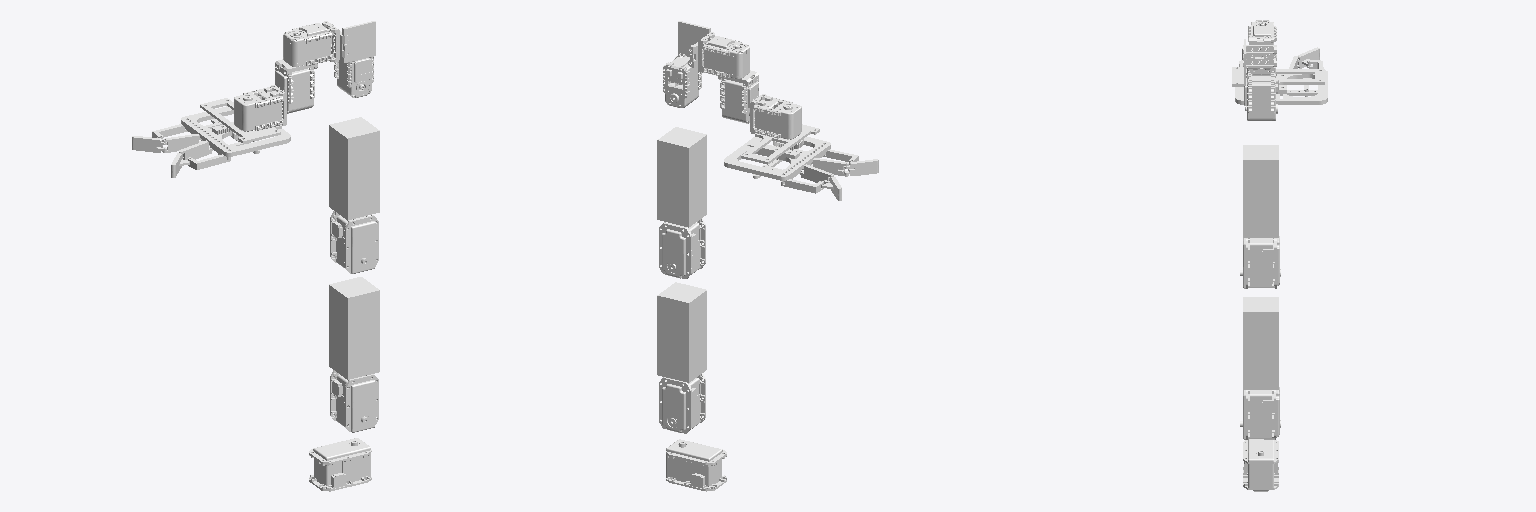
URDF robot description (mobile_manipulator):
<?xml version="1.0" ?>
<!-- =================================================================================== -->
<!-- |    This document was autogenerated by xacro from mobile_manipulator.xacro       | -->
<!-- |    EDITING THIS FILE BY HAND IS NOT RECOMMENDED                                 | -->
<!-- =================================================================================== -->
<robot name="mobile_manipulator" xmlns:xacro="http://www.ros.org/wiki/xacro">
  <material name="white">
    <color rgba="1 1 1 1"/>
  </material>
  <!-- MACROS -->
  <!-- Macros of the J plate -->
  <!-- Macros of the square plate -->
  <!-- Macros of the gripper -->
  <!-- Macros of the AXBracket -->
  <!-- LINKS -->
  <link name="bot">
    <visual>
      <origin rpy="0 0 -1.57" xyz="0 0 0"/>
      <geometry>
        <mesh filename="package://mobile_manipulator/meshes/bot.stl" scale="0.001 0.001 0.001"/>
      </geometry>
      <material name="white"/>
    </visual>
    <collision>
      <origin rpy="0 0 -1.57" xyz="0 0 0"/>
      <geometry>
        <mesh filename="package://mobile_manipulator/meshes/bot.stl" scale="0.001 0.001 0.001"/>
      </geometry>
    </collision>
  </link>
  <link name="shoulder_yaw_motor">
    <inertial>
      <origin rpy="0 0 0 " xyz="0 0 0"/>
      <mass value="0.140"/>
      <inertia ixx="0.000050799110" ixy="0.0" ixz="0.0" iyy="0.00002857215" iyz="0.00000051457" izz="0.000043394"/>
    </inertial>
    <visual>
      <origin rpy="0 0 0 " xyz="0 0.188 0.2349"/>
      <geometry>
        <mesh filename="package://mobile_manipulator/meshes/dynamixel_x64series.stl" scale="0.001 0.001 0.001"/>
      </geometry>
      <material name="white"/>
    </visual>
    <collision>
      <origin rpy="0 0 0" xyz="0 0.188 0.2349"/>
      <geometry>
        <box size="0.041 0.0402 0.0611"/>
      </geometry>
    </collision>
  </link>
  <link name="shoulder_bracket">
    <inertial>
      <origin rpy="0 3.14 0 " xyz="0 0 0.025"/>
      <mass value="0.00712"/>
      <inertia ixx="0.00000174511" ixy="0.0" ixz="0.0" iyy="0.00000379922" iyz="0.0" izz="0.00000357521"/>
    </inertial>
    <visual>
      <origin rpy="0 3.14 0 " xyz="0 0 0"/>
      <geometry>
        <mesh filename="package://mobile_manipulator/meshes/FR05-H101K.stl" scale="0.001 0.001 0.001"/>
      </geometry>
      <material name="white"/>
    </visual>
    <collision>
      <origin rpy="0 3.14 0 " xyz="0 0 0"/>
      <geometry>
        <mesh filename="package://mobile_manipulator/meshes/FR05-H101K.stl" scale="0.001 0.001 0.001"/>
      </geometry>
    </collision>
  </link>
  <link name="shoulder_pitch_motor">
    <inertial>
      <origin rpy="0 0 1.57" xyz="0 0 0"/>
      <mass value="0.140"/>
      <inertia ixx="0.000050799110" ixy="0.0" ixz="0.0" iyy="0.00002857215" iyz="0.00000051457" izz="0.000043394"/>
    </inertial>
    <visual>
      <origin rpy="0.0 0.0 1.57" xyz="0 0 0"/>
      <geometry>
        <mesh filename="package://mobile_manipulator/meshes/dynamixel_x64series.stl" scale="0.001 0.001 0.001"/>
      </geometry>
      <material name="white"/>
    </visual>
    <collision>
      <origin rpy="0 0 1.57" xyz="0 0 0"/>
      <geometry>
        <box size="0.041 0.0602 0.1480"/>
      </geometry>
    </collision>
  </link>
  <link name="biscep">
    <inertial>
      <origin rpy="0 1.57 0" xyz="0.099 0 0"/>
      <mass value="0.00048"/>
      <inertia ixx="0.000050799110" ixy="0.0" ixz="0.0" iyy="0.00002857215" iyz="0.00000051457" izz="0.000043394"/>
    </inertial>
    <visual>
      <origin rpy="0 1.57 0" xyz="0.099 0 0"/>
      <geometry>
        <box size="0.04 0.04 0.096"/>
      </geometry>
      <material name="white"/>
    </visual>
    <collision>
      <origin rpy="0 1.57 0" xyz="0.099 0 0"/>
      <geometry>
        <box size="0.04 0.04 0.096"/>
      </geometry>
    </collision>
  </link>
  <link name="elbow_bracket">
    <inertial>
      <origin rpy="0 -1.57 0" xyz="0.148 0 0"/>
      <mass value="0.00712"/>
      <inertia ixx="0.00000174511" ixy="0.0" ixz="0.0" iyy="0.00000379922" iyz="0.0" izz="0.00000357521"/>
    </inertial>
    <visual>
      <origin rpy="0 -1.57 0" xyz="0.148 0 0"/>
      <geometry>
        <mesh filename="package://mobile_manipulator/meshes/FR05-H101K.stl" scale="0.001 0.001 0.001"/>
      </geometry>
      <material name="white"/>
    </visual>
    <collision>
      <origin rpy="0 -1.57 0" xyz="0.148 0 0"/>
      <geometry>
        <mesh filename="package://mobile_manipulator/meshes/FR05-H101K.stl" scale="0.001 0.001 0.001"/>
      </geometry>
    </collision>
  </link>
  <link name="elbow_motor">
    <inertial>
      <origin rpy="0 0 1.57" xyz="0 0 0"/>
      <mass value="0.140"/>
      <inertia ixx="0.000050799110" ixy="0.0" ixz="0.0" iyy="0.00002857215" iyz="0.00000051457" izz="0.000043394"/>
    </inertial>
    <visual>
      <origin rpy="0 0 1.57" xyz="0 0 0"/>
      <geometry>
        <mesh filename="package://mobile_manipulator/meshes/dynamixel_x64series.stl" scale="0.001 0.001 0.001"/>
      </geometry>
      <material name="white"/>
    </visual>
    <collision>
      <origin rpy="0 0 1.57" xyz="0  0 0"/>
      <geometry>
        <box size="0.041 0.0402 0.0611"/>
      </geometry>
    </collision>
  </link>
  <link name="forearm">
    <inertial>
      <origin rpy="0 1.57 0" xyz="0.1 0 0"/>
      <mass value="0.00048"/>
      <inertia ixx="0.000050799110" ixy="0.0" ixz="0.0" iyy="0.00002857215" iyz="0.00000051457" izz="0.000043394"/>
    </inertial>
    <visual>
      <origin rpy="0 1.57 0" xyz="0.1 0 0"/>
      <geometry>
        <box size="0.04 0.04 0.096"/>
      </geometry>
      <material name="white"/>
    </visual>
    <collision>
      <origin rpy="0 1.57 0" xyz="0.1 0 0"/>
      <geometry>
        <box size="0.04 0.04 0.096"/>
      </geometry>
    </collision>
  </link>
  <link name="wrist_bracket">
    <inertial>
      <origin rpy="0 0 -1.57" xyz="0.202 0 0"/>
      <mass value="0.00712"/>
      <inertia ixx="0.00000174511" ixy="0.0" ixz="0.0" iyy="0.00000379922" iyz="0.0" izz="0.00000357521"/>
    </inertial>
    <visual>
      <origin rpy="0 0 -1.57" xyz="0.202 0 0"/>
      <geometry>
        <mesh filename="package://mobile_manipulator/meshes/F4.stl" scale="0.001 0.001 0.001"/>
      </geometry>
      <material name="white"/>
    </visual>
    <collision>
      <origin rpy="0 0 -1.57" xyz="0.202 0 0"/>
      <geometry>
        <mesh filename="package://mobile_manipulator/meshes/F4.stl" scale="0.001 0.001 0.001"/>
      </geometry>
    </collision>
  </link>
  <link name="wrist_pitch_motor">
    <inertial>
      <origin rpy="0 0 1.57" xyz="0 0 0"/>
      <mass value="0.05573"/>
      <inertia ixx="0.00001611154" ixy="0.00000001397" ixz="0.0" iyy="0.00000888743" iyz="0.00000015948" izz="0.00001354172"/>
    </inertial>
    <visual>
      <origin rpy="0 0 1.57" xyz="0 0 0"/>
      <geometry>
        <mesh filename="package://mobile_manipulator/meshes/AX-12_18A - dynamixel_AXseries-1.stl" scale="0.001 0.001 0.001"/>
      </geometry>
      <material name="white"/>
    </visual>
    <collision>
      <origin rpy="0 0 1.57" xyz="0 0 0"/>
      <geometry>
        <box size="0.032 0.04 0.05"/>
      </geometry>
    </collision>
  </link>
  <link name="wrist_yaw_motor">
    <inertial>
      <origin rpy="0 1.57 0" xyz="0.055 0.0 -0.056"/>
      <mass value="0.05573"/>
      <inertia ixx="0.00001611154" ixy="0.00000001397" ixz="0.0" iyy="0.00000888743" iyz="0.00000015948" izz="0.00001354172"/>
    </inertial>
    <visual>
      <origin rpy="0 1.57 0" xyz="0.055 0.0 -0.056"/>
      <geometry>
        <mesh filename="package://mobile_manipulator/meshes/AX-12_18A - dynamixel_AXseries-1.stl" scale="0.001 0.001 0.001"/>
      </geometry>
      <material name="white"/>
    </visual>
    <collision>
      <origin rpy="0 1.57 0" xyz="0.055 0.0 -0.056"/>
      <geometry>
        <box size="0.032 0.04 0.05"/>
      </geometry>
    </collision>
  </link>
  <link name="wrist_roll_motor">
    <inertial>
      <origin rpy="-1.57 3.14 0" xyz="0 0.002565 0.04237"/>
      <mass value="0.05573"/>
      <inertia ixx="0.00001611154" ixy="0.00000001397" ixz="0.0" iyy="0.00000888743" iyz="0.00000015948" izz="0.00001354172"/>
    </inertial>
    <visual>
      <origin rpy="-1.57 3.14 0" xyz="0 0.002565 0.04237"/>
      <geometry>
        <mesh filename="package://mobile_manipulator/meshes/AX-12_18A - dynamixel_AXseries-1.stl" scale="0.001 0.001 0.001"/>
      </geometry>
      <material name="white"/>
    </visual>
    <collision>
      <origin rpy="-1.57 3.14 0" xyz="0 0.002565 0.04237"/>
      <geometry>
        <box size="0.032 0.04 0.05"/>
      </geometry>
    </collision>
  </link>
  <!--link name="roll_j_plate">
    <xacro:roll_j_plate_Inertial trans="0.015 0.0147 0.058" rpy="3.14 1.57 -1.57"/>
    <xacro:roll_j_plate_Visual trans="0.015 0.0147 0.058" rpy="3.14 1.57 -1.57"/>
    <xacro:roll_j_plate_Collision trans="0.015 0.0147 0.058" rpy="3.14 1.57 -1.57"/>
  </link-->
  <link name="square_plate_1">
    <inertial>
      <origin rpy="-1.57 0 0" xyz="0.035 -0.0156 0.02"/>
      <mass value="0.140"/>
      <inertia ixx="0.000050799110" ixy="0.0" ixz="0.0" iyy="0.00002857215" iyz="0.00000051457" izz="0.000043394"/>
    </inertial>
    <visual>
      <origin rpy="-1.57 0 0" xyz="0.035 -0.0156 0.02"/>
      <geometry>
        <mesh filename="package://mobile_manipulator/meshes/square_plate.stl" scale="0.001 0.001 0.001"/>
      </geometry>
      <material name="white"/>
    </visual>
    <collision>
      <origin rpy="-1.57 0 0" xyz="0.035 -0.0156 0.0"/>
      <geometry>
        <mesh filename="package://mobile_manipulator/meshes/square_plate.stl" scale="0.001 0.001 0.001"/>
      </geometry>
    </collision>
  </link>
  <!--link name="square_plate_2">
    <xacro:square_plate_Inertial trans="-0.02 -0.0156 0.0737" rpy="3.14 1.57 -1.57"/>
    <xacro:square_plate_Visual trans="-0.02 -0.0156 0.0737" rpy="3.14 1.57 -1.57"/>
    <xacro:square_plate_Collision trans="-0.02 -0.0156 0.0737" rpy="3.14 1.57 -1.57"/>
  </link-->
  <link name="AXB2B_SQ_Y">
    <inertial>
      <origin rpy="0 0 3.14" xyz="0.0737 0.048 -0.02"/>
      <mass value="0.140"/>
      <inertia ixx="0.000050799110" ixy="0.0" ixz="0.0" iyy="0.00002857215" iyz="0.00000051457" izz="0.000043394"/>
    </inertial>
    <visual>
      <origin rpy="0 0 3.14" xyz="0.0737 0.048 -0.02"/>
      <geometry>
        <mesh filename="package://mobile_manipulator/meshes/axback.stl" scale="0.001 0.001 0.001"/>
      </geometry>
      <material name="white"/>
    </visual>
    <collision>
      <origin rpy="0 0 3.14" xyz="0.0737 0.048 -0.02"/>
      <geometry>
        <mesh filename="package://mobile_manipulator/meshes/axback.stl" scale="0.001 0.001 0.001"/>
      </geometry>
    </collision>
  </link>
  <link name="AXBrak_Y_R">
    <inertial>
      <origin rpy="1.57 0 0" xyz="-0.0125 0.02 0"/>
      <mass value="0.140"/>
      <inertia ixx="0.000050799110" ixy="0.0" ixz="0.0" iyy="0.00002857215" iyz="0.00000051457" izz="0.000043394"/>
    </inertial>
    <visual>
      <origin rpy="1.57 0 0" xyz="-0.0125 0.02 0"/>
      <geometry>
        <mesh filename="package://mobile_manipulator/meshes/axbracket.stl" scale="0.001 0.001 0.001"/>
      </geometry>
      <material name="white"/>
    </visual>
    <collision>
      <origin rpy="1.57 0 0" xyz="-0.0125 0.02 0"/>
      <geometry>
        <mesh filename="package://mobile_manipulator/meshes/axbracket.stl" scale="0.001 0.001 0.001"/>
      </geometry>
    </collision>
    <!--0.067/-->
  </link>
  <link name="gripper">
    <inertial>
      <origin rpy="1.57 0 0" xyz="0.006 0.035 0.085"/>
      <mass value="0.140"/>
      <inertia ixx="0.000050799110" ixy="0.0" ixz="0.0" iyy="0.00002857215" iyz="0.00000051457" izz="0.000043394"/>
    </inertial>
    <visual>
      <origin rpy="1.57 0 0" xyz="0.006 0.035 0.085"/>
      <geometry>
        <mesh filename="package://mobile_manipulator/meshes/gripper.stl" scale="0.001 0.001 0.001"/>
      </geometry>
      <material name="white"/>
    </visual>
    <collision>
      <origin rpy="1.57 0 0" xyz="0.006 0.035 0.085"/>
      <geometry>
        <mesh filename="package://mobile_manipulator/meshes/gripper.stl" scale="0.001 0.001 0.001"/>
      </geometry>
    </collision>
  </link>
  <joint name="bot_joint" type="fixed">
    <origin rpy="0 0 -1.57" xyz="0 0 0"/>
    <parent link="bot"/>
    <child link="shoulder_yaw_motor"/>
  </joint>
  <joint name="shoulder_yaw" type="revolute">
    <origin rpy="0 0 3.14" xyz="0 0.188 0.2577"/>
    <parent link="shoulder_yaw_motor"/>
    <child link="shoulder_bracket"/>
    <axis xyz="0 0 1"/>
    <limit effort="30" lower="-3.14" upper="3.14" velocity="1.0"/>
  </joint>
  <joint name="shoulder_pitch" type="revolute">
    <origin rpy="0 -1.57 0.0" xyz="0 0 0.035"/>
    <parent link="shoulder_bracket"/>
    <child link="shoulder_pitch_motor"/>
    <axis xyz="0 0 1"/>
    <limit effort="30" lower="-1.6592" upper="1.727" velocity="1.0"/>
  </joint>
  <joint name="s1_l2" type="fixed">
    <origin rpy="0 0 0" xyz="0 0 0"/>
    <parent link="shoulder_pitch_motor"/>
    <child link="biscep"/>
  </joint>
  <joint name="l2_l2B" type="fixed">
    <origin rpy="0 0 0" xyz="0 0 0"/>
    <parent link="biscep"/>
    <child link="elbow_bracket"/>
  </joint>
  <joint name="elbow" type="revolute">
    <origin rpy="0 0 0" xyz="0.186 0 0"/>
    <parent link="elbow_bracket"/>
    <child link="elbow_motor"/>
    <axis xyz="0 0 1"/>
    <limit effort="30" lower="-1.9262" upper="1.934" velocity="1.0"/>
  </joint>
  <joint name="e_l3" type="fixed">
    <origin rpy="0 0 0" xyz="0 0 0"/>
    <parent link="elbow_motor"/>
    <child link="forearm"/>
  </joint>
  <joint name="l3_l3B" type="fixed">
    <origin rpy="0 0 0" xyz="0 0 0"/>
    <parent link="forearm"/>
    <child link="wrist_bracket"/>
  </joint>
  <joint name="wrist_pitch" type="revolute">
    <origin rpy="0 0 0" xyz="0.202 0 0 "/>
    <parent link="wrist_bracket"/>
    <child link="wrist_pitch_motor"/>
    <axis xyz="0 0 1"/>
    <limit effort="30" lower="-2.29" upper="0.718" velocity="1.0"/>
  </joint>
  <joint name="WP_SQ1" type="fixed">
    <origin rpy="0 0 0" xyz="0 0 0"/>
    <parent link="wrist_pitch_motor"/>
    <child link="square_plate_1"/>
  </joint>
  <joint name="SQ1_AXB2B" type="fixed">
    <origin rpy="0 0 0" xyz="0 0 0"/>
    <parent link="square_plate_1"/>
    <child link="AXB2B_SQ_Y"/>
  </joint>
  <joint name="AXB2B_Y" type="fixed">
    <origin rpy="0 0 0" xyz="0 0.07 0.055"/>
    <parent link="AXB2B_SQ_Y"/>
    <child link="wrist_yaw_motor"/>
  </joint>
  <joint name="wrist_yaw" type="revolute">
    <origin rpy="0 -1.57 0" xyz="0.04 0 -0.055"/>
    <parent link="wrist_yaw_motor"/>
    <child link="AXBrak_Y_R"/>
    <axis xyz="0 0 1"/>
    <limit effort="30" lower="-1.43" upper="+2.11" velocity="1.0"/>
  </joint>
  <joint name="AXBYR_R" type="fixed">
    <origin rpy="0 0 0" xyz="0 0 0"/>
    <parent link="AXBrak_Y_R"/>
    <child link="wrist_roll_motor"/>
  </joint>
  <joint name="wrist_roll" type="revolute">
    <origin rpy="-1.57 3.14 0" xyz="0 0.0 0.0409163"/>
    <parent link="wrist_roll_motor"/>
    <child link="gripper"/>
    <axis xyz="0 0 1"/>
    <limit effort="30" lower="-2.617" upper="+2.617" velocity="1.0"/>
  </joint>
  <!--xacro:FxdJoint id="roll_plate_gripper" parent="roll_j_plate" child="gripper" /-->
</robot>

--- Render facts (derived) ---
Views: 3 orthographic renders of the robot side by side, from view 1: azimuth 30°, elevation 25°; view 2: azimuth 150°, elevation 25°; view 3: azimuth 270°, elevation 25°.
Robot: mobile_manipulator — 16 links, 15 joints (6 revolute, 9 fixed); root link bot; default pose: all joints at 0.
Visible links, largest first — view 1: gripper, biscep, forearm, shoulder_yaw_motor, elbow_motor, shoulder_pitch_motor, wrist_yaw_motor, wrist_roll_motor, wrist_pitch_motor, square_plate_1, AXB2B_SQ_Y; view 2: gripper, biscep, forearm, shoulder_yaw_motor, elbow_motor, shoulder_pitch_motor, wrist_yaw_motor, wrist_pitch_motor, wrist_roll_motor, square_plate_1; view 3: biscep, forearm, gripper, elbow_motor, shoulder_pitch_motor, shoulder_yaw_motor, wrist_pitch_motor, AXB2B_SQ_Y.
Link boxes in pixels (box(x1,y1,x2,y2)): gripper: box(132, 85, 290, 177); biscep: box(329, 277, 379, 379); forearm: box(329, 117, 379, 220); shoulder_yaw_motor: box(309, 438, 371, 491); elbow_motor: box(330, 211, 378, 273); shoulder_pitch_motor: box(330, 370, 378, 432); wrist_yaw_motor: box(283, 23, 333, 66); wrist_roll_motor: box(275, 67, 314, 113); wrist_pitch_motor: box(334, 56, 373, 97); square_plate_1: box(342, 21, 375, 62); AXB2B_SQ_Y: box(322, 21, 349, 62); gripper: box(724, 94, 878, 200); biscep: box(657, 282, 706, 382); forearm: box(657, 127, 706, 227); shoulder_yaw_motor: box(666, 439, 726, 491); elbow_motor: box(659, 218, 705, 278); shoulder_pitch_motor: box(659, 373, 705, 433); wrist_yaw_motor: box(702, 36, 749, 78); wrist_pitch_motor: box(663, 53, 701, 107); wrist_roll_motor: box(720, 78, 758, 123); square_plate_1: box(678, 21, 710, 56); biscep: box(1243, 297, 1278, 389); forearm: box(1243, 145, 1278, 237); gripper: box(1232, 47, 1327, 104); elbow_motor: box(1240, 236, 1280, 288); shoulder_pitch_motor: box(1240, 387, 1280, 439); shoulder_yaw_motor: box(1243, 439, 1278, 491); wrist_pitch_motor: box(1244, 73, 1278, 120); AXB2B_SQ_Y: box(1243, 36, 1276, 68).
Bounding box of the posed robot: 0.2569 × 0.1067 × 0.5428 m (x, y, z).
10 mesh visuals loaded from 9 distinct referenced files (6 binary STL); not drawn: 4 (reference not matched to a file when rendering).